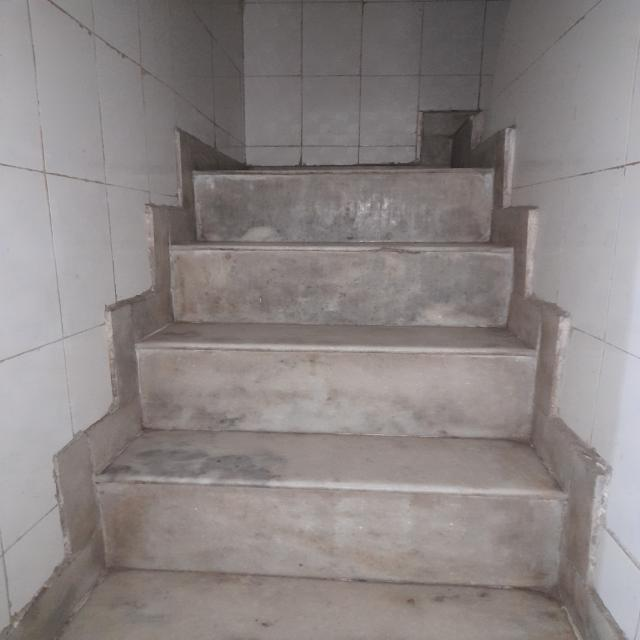Stairs: (154, 92, 567, 585)
